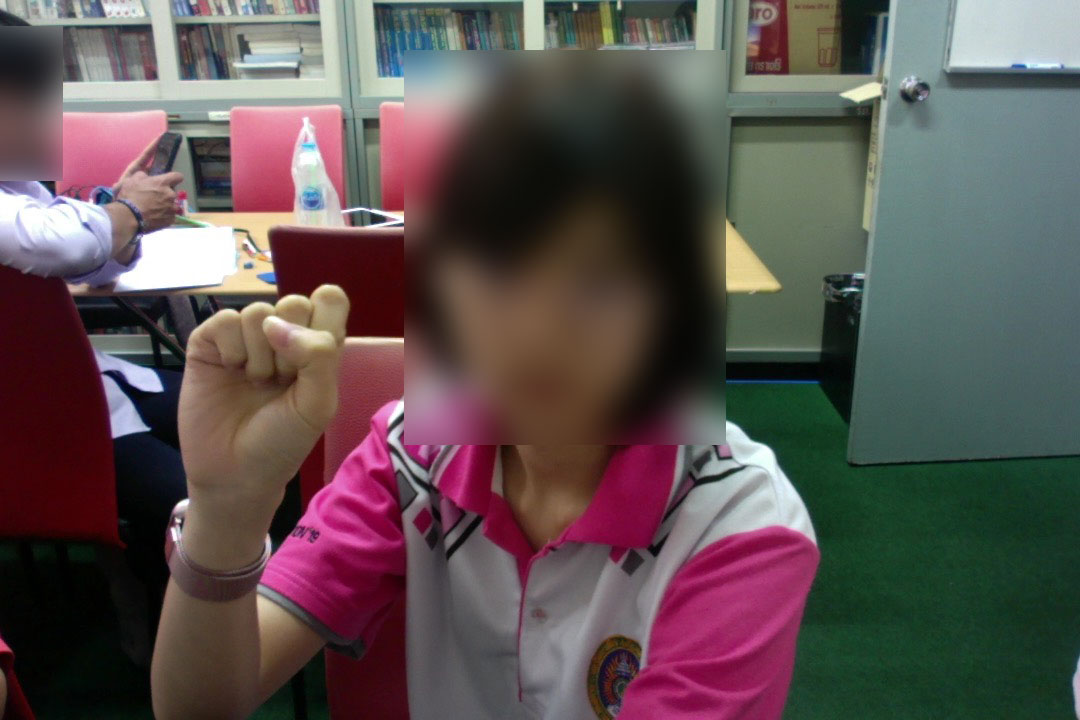sor: (168, 275, 353, 524)
